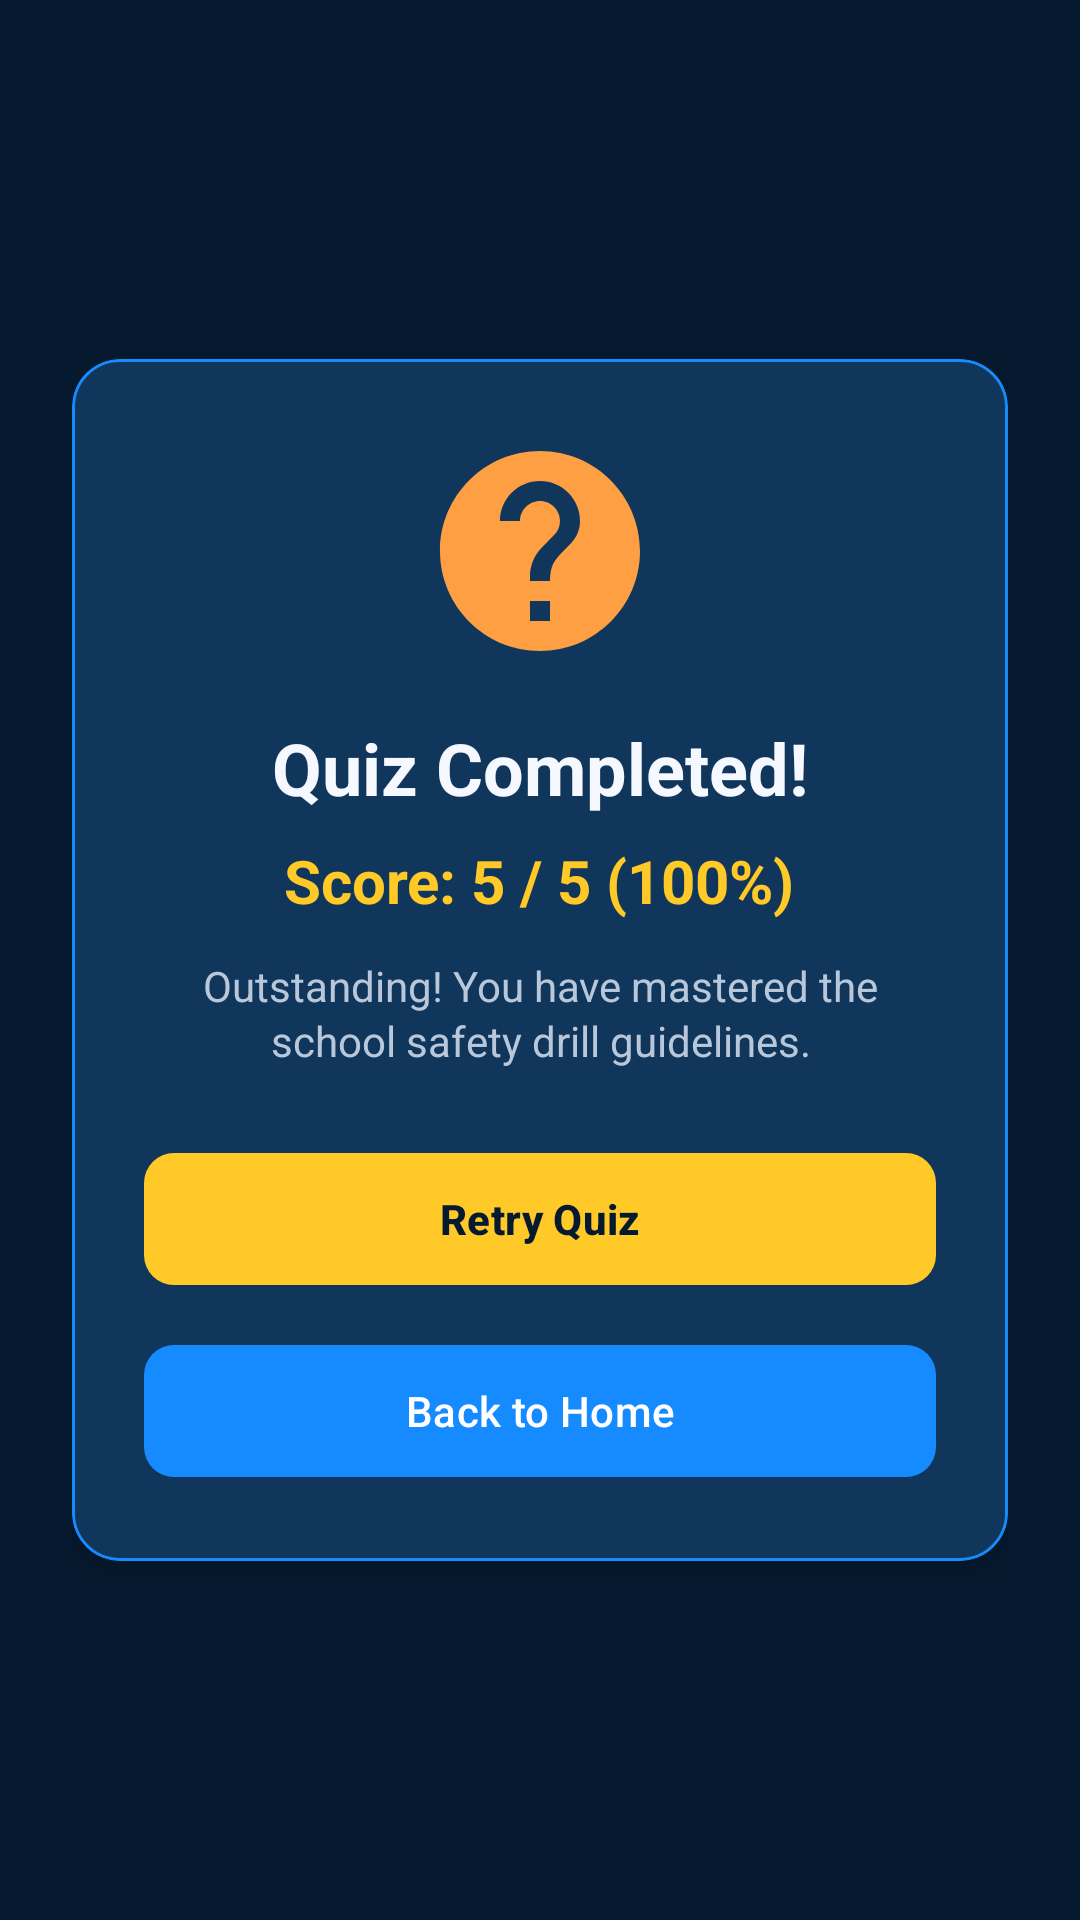

Icons on this 1080x1920 Android screen, each with the point to tap as point (x, y):
Result Badge: point (539, 551)
